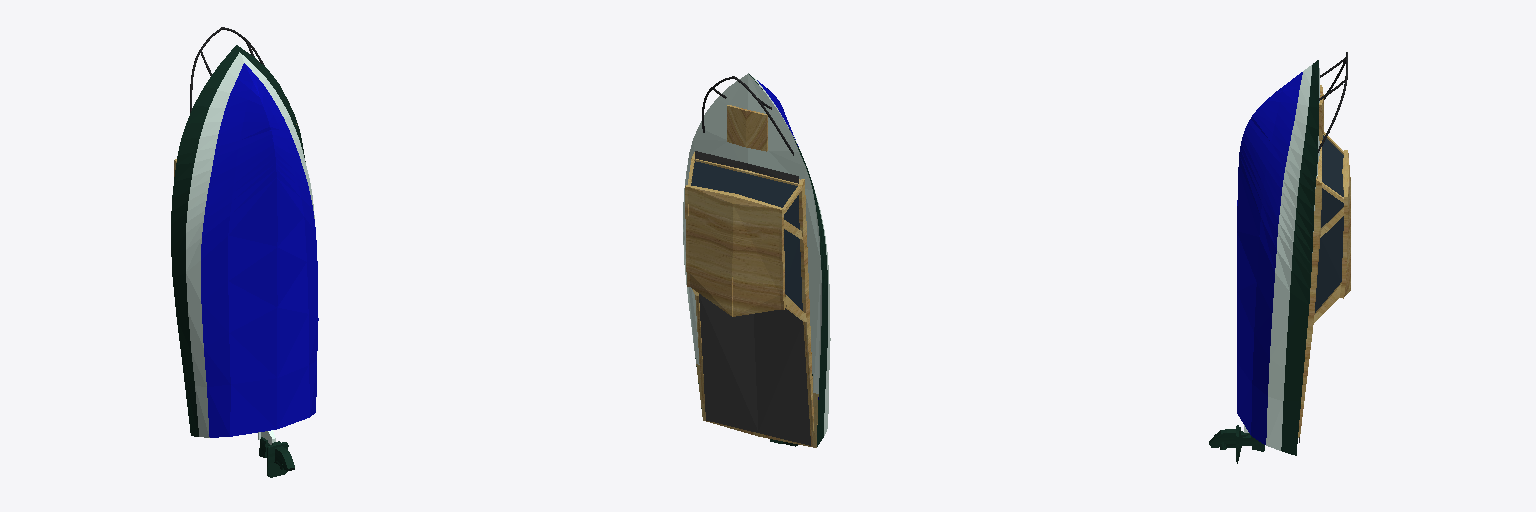
The picture shows the model from 3 angles: view 1: azimuth 30°, elevation 25°; view 2: azimuth 150°, elevation 25°; view 3: azimuth 270°, elevation 25°; orthographic projection.
Parts seen in each view (by area): view 1: Cabin_Plane.001_Windows.002; view 2: Cabin_Plane.001_Windows.002; view 3: Cabin_Plane.001_Windows.002.
Part boxes in pixels (bbox=[...]): Cabin_Plane.001_Windows.002: bbox=[171, 27, 318, 477]; Cabin_Plane.001_Windows.002: bbox=[683, 73, 830, 447]; Cabin_Plane.001_Windows.002: bbox=[1209, 52, 1350, 463].
Bounding box in the file's own units: 2.02 × 5.72 × 1.79.
Materials: 10 (2 with a texture image).